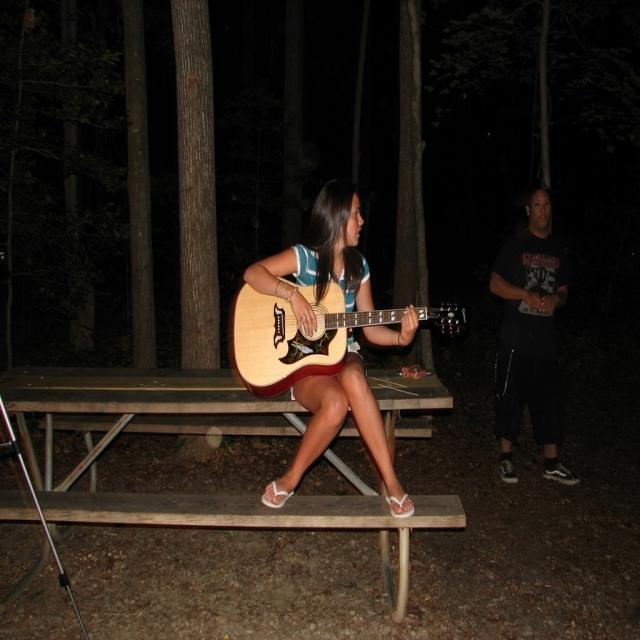guitar: (233, 269, 471, 398)
